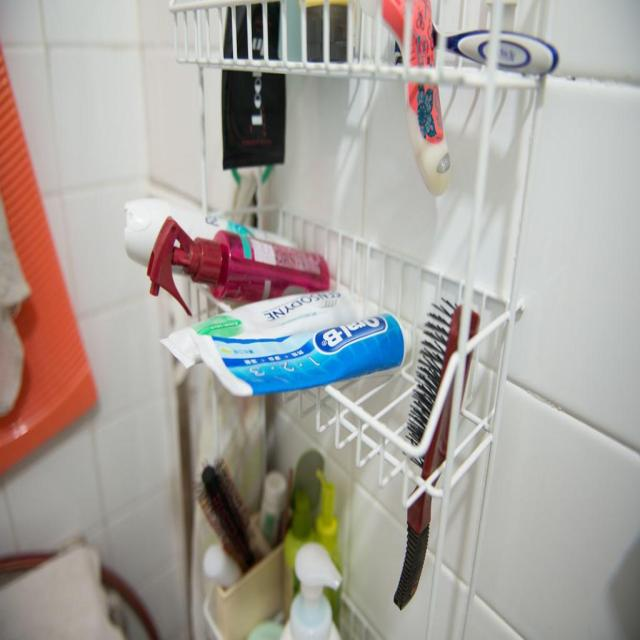Toothpaste: (156, 274, 406, 396)
